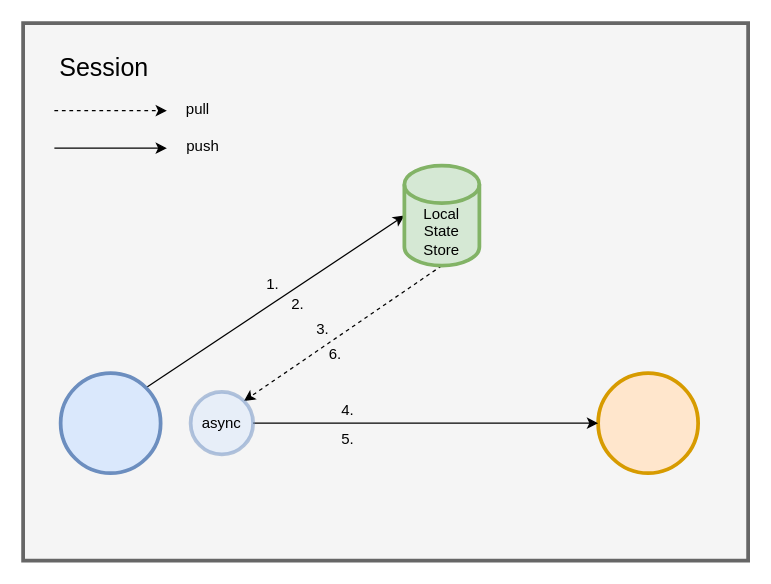
Image size: 771x584. Some labels were removed from this diagram. Each missing label, with the centre of its shape:
Message Queue: point 647,422
Service: point 110,422
